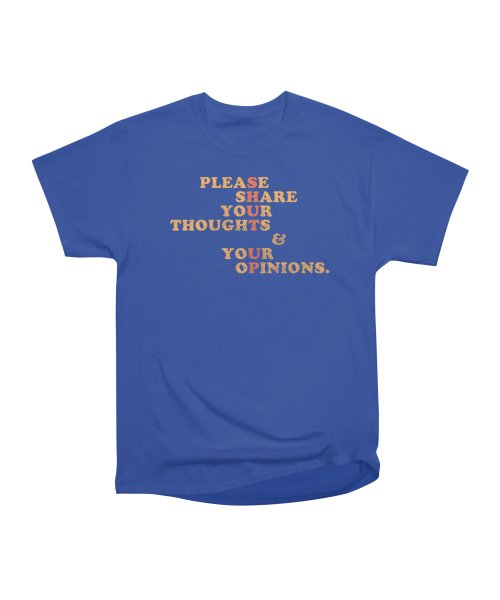design: (165, 171, 332, 279)
